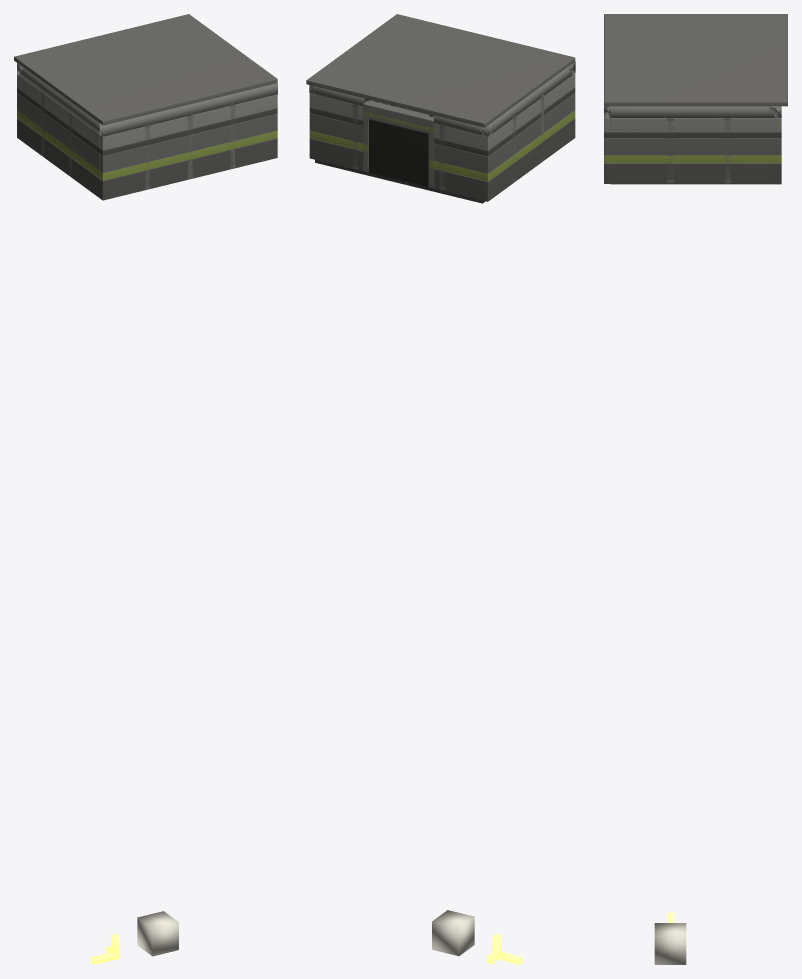
Rendered from rooms4.fbx.
3 views of the same model, side by side, from view 1: azimuth 30°, elevation 25°; view 2: azimuth 150°, elevation 25°; view 3: azimuth 270°, elevation 25° (orthographic). The views are drawn at different scales.
Visible parts, largest first — view 1: SR_Ceiling__ceiling, SR_Shell__wall_kick, SR_Shell__wall_body, SR_Shell__wall_light, SR_Shell__wall_upper, SR_Shell__band_olive, K_Scale4, SR_Shell__wall_dark, SR_Shell__trim_metal; view 2: SR_Ceiling__ceiling, SR_Backdrop__wall_light, SR_Backdrop__sign_board, SR_Backdrop__wall_kick, SR_Backdrop__wall_body, SR_Shell__wall_kick, K_Scale4, SR_Shell__wall_body, SR_Backdrop__wall_upper, SR_Shell__wall_light, SR_Backdrop__band_olive, SR_Shell__wall_upper (+3 smaller); view 3: SR_Ceiling__ceiling, SR_Shell__wall_kick, SR_Shell__wall_body, SR_Shell__wall_light, SR_Shell__wall_upper, SR_Shell__band_olive, K_Scale4, SR_Shell__wall_dark, SR_Shell__trim_metal.
Boxes of the visible parts, x1,y1,x2,y2 form: SR_Ceiling__ceiling: (14,14,277,125); SR_Shell__wall_kick: (17,120,277,200); SR_Shell__wall_body: (17,94,277,172); SR_Shell__wall_light: (17,64,277,187); SR_Shell__wall_upper: (17,74,277,149); SR_Shell__band_olive: (17,112,277,180); K_Scale4: (137,911,178,956); SR_Shell__wall_dark: (17,89,277,155); SR_Shell__trim_metal: (20,93,277,189); SR_Ceiling__ceiling: (306,14,575,127); SR_Backdrop__wall_light: (309,85,494,189); SR_Backdrop__sign_board: (369,119,428,187); SR_Backdrop__wall_kick: (309,139,491,201); SR_Backdrop__wall_body: (309,113,490,173); SR_Shell__wall_kick: (309,101,575,200); K_Scale4: (432,910,474,956); SR_Shell__wall_body: (309,93,575,172); SR_Backdrop__wall_upper: (309,93,490,150); SR_Shell__wall_light: (310,61,575,163); SR_Backdrop__band_olive: (309,111,491,181); SR_Shell__wall_upper: (309,73,575,150); SR_Ceiling__ceiling: (604,14,787,106); SR_Shell__wall_kick: (604,164,781,183); SR_Shell__wall_body: (604,138,781,154); SR_Shell__wall_light: (604,106,781,183); SR_Shell__wall_upper: (604,118,781,131); SR_Shell__band_olive: (604,155,781,163); K_Scale4: (654,923,686,964); SR_Shell__wall_dark: (604,132,781,137); SR_Shell__trim_metal: (604,119,781,183).
Bounding box in the file's own units: 6600 × 31350 × 5800.
